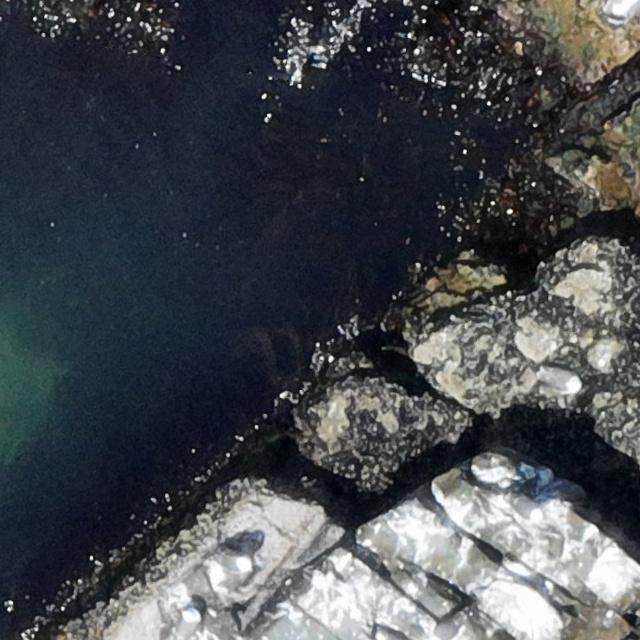umineko: (506, 492, 544, 524), (212, 550, 252, 574), (538, 368, 577, 389), (174, 606, 200, 637)
